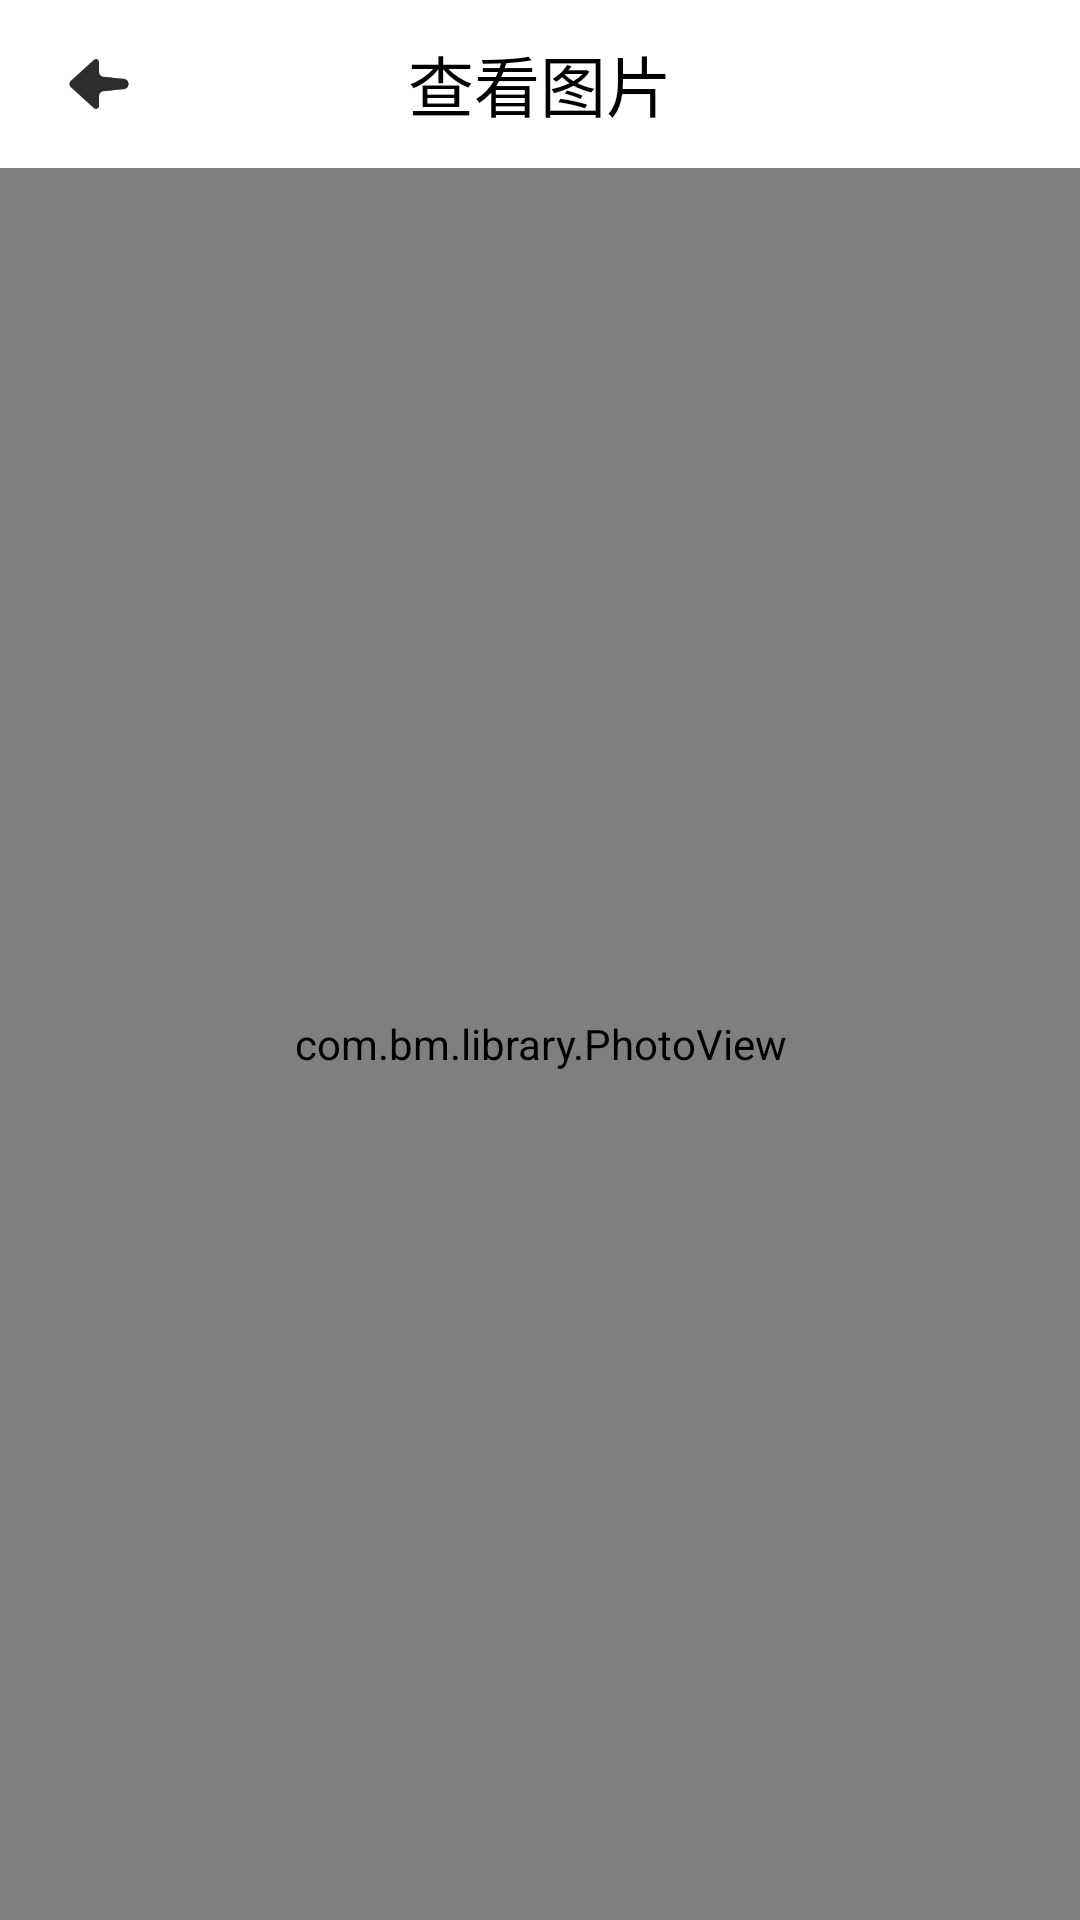

Icon click points for this 1080×1920 phone screenshot, format (x=x, y=y):
back: (x=99, y=84)
